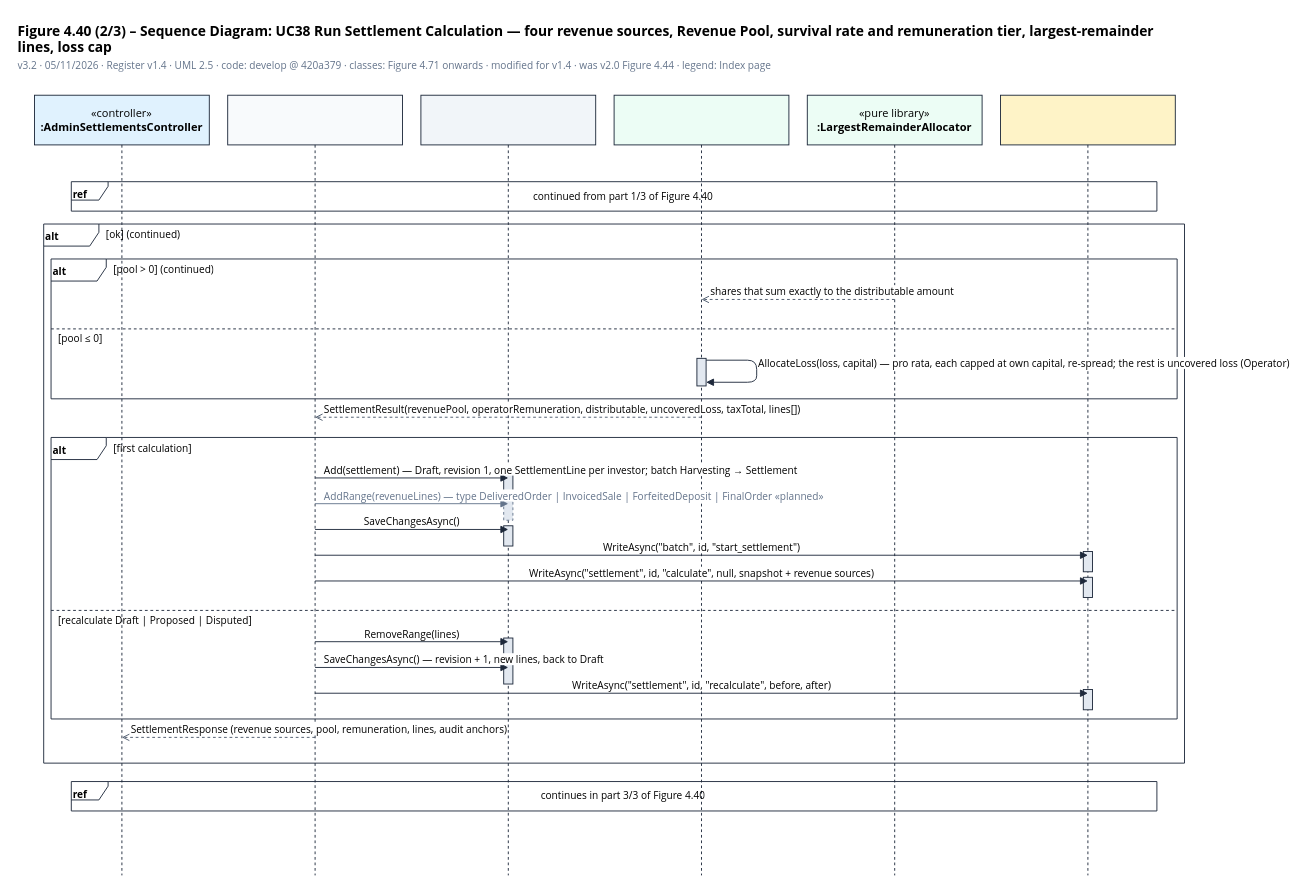
Image size: 1305x891. Some labels were removed from this diagram. Here are the shapes that lost their labels. From the top down, the box of each, then its label:
(227, 94, 402, 875): «service» :SettlementService
(420, 94, 596, 875): «persistence» :AppDbContext
(613, 94, 789, 875): «pure library» :SettlementCalculator
(1000, 94, 1175, 875): «interface» :IAuditLog
